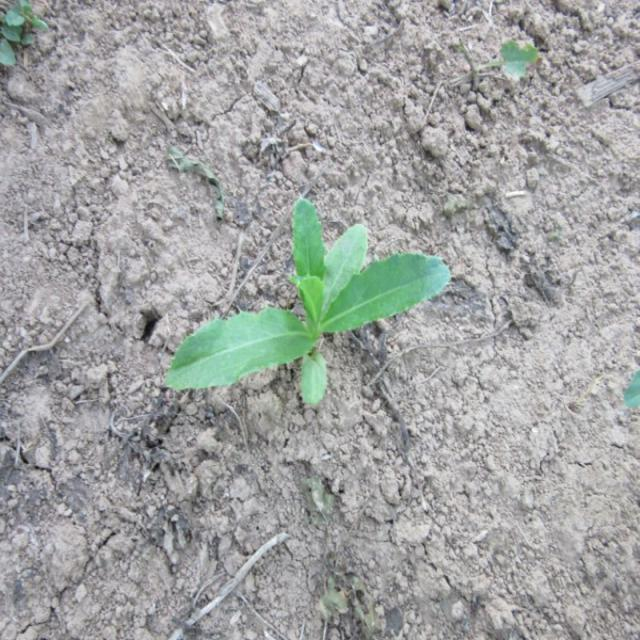cs: (168, 196, 453, 407)
